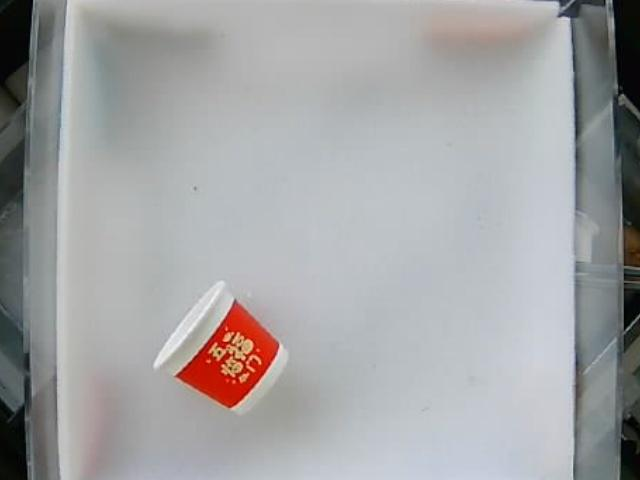Cup: (157, 279, 291, 416)
